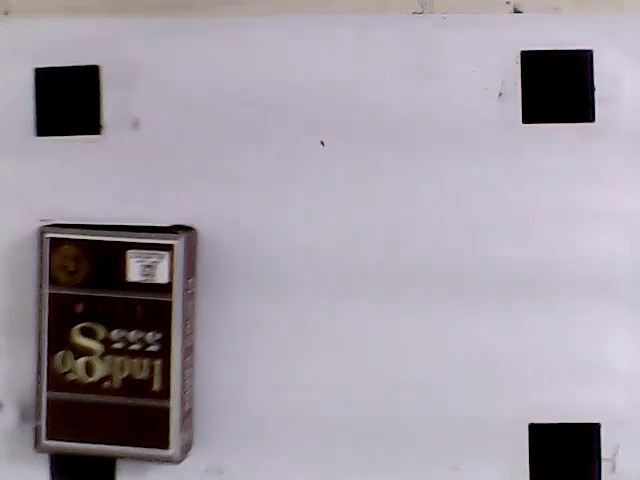BEX: (44, 236, 175, 451)
